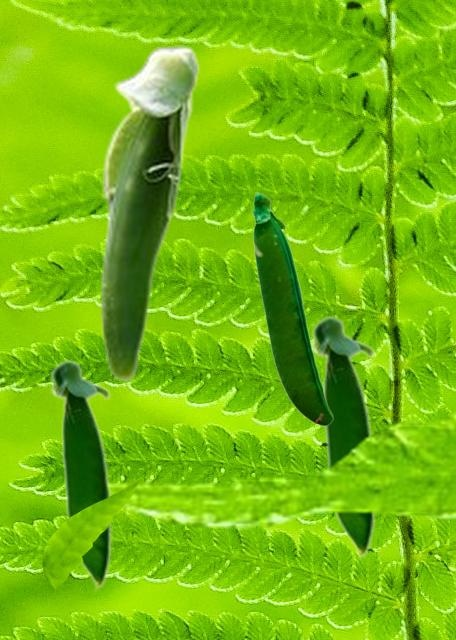pea: (99, 45, 200, 382), (251, 191, 332, 425), (310, 314, 375, 561), (49, 358, 111, 592)
